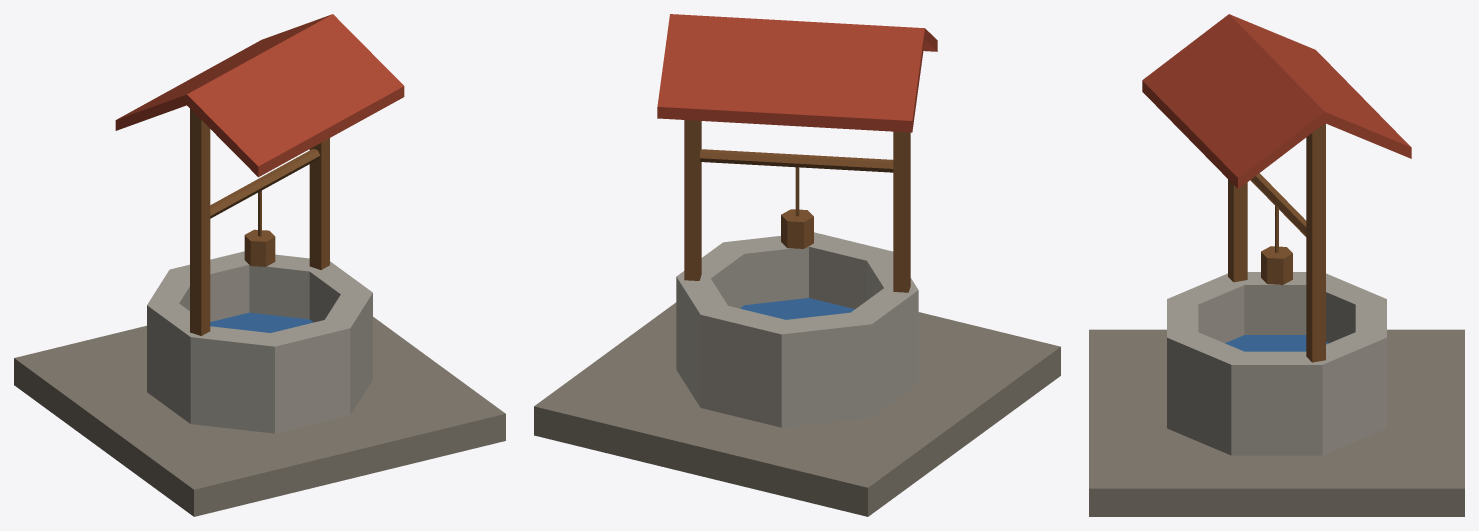
File: Teren_Bruk_Studnia.fbx
3 renders of one model, left to right at view 1: azimuth 30°, elevation 25°; view 2: azimuth 150°, elevation 25°; view 3: azimuth 270°, elevation 25°, orthographic. The views are drawn at different scales.
Parts seen in each view (by area): view 1: Teren_Bruk_Studnia; view 2: Teren_Bruk_Studnia; view 3: Teren_Bruk_Studnia.
Part boxes in pixels (<box>): Teren_Bruk_Studnia: <box>14,14,505,516</box>; Teren_Bruk_Studnia: <box>534,14,1060,516</box>; Teren_Bruk_Studnia: <box>1089,14,1464,516</box>.
Bounding box in the file's own units: 3 × 3.3 × 3.
